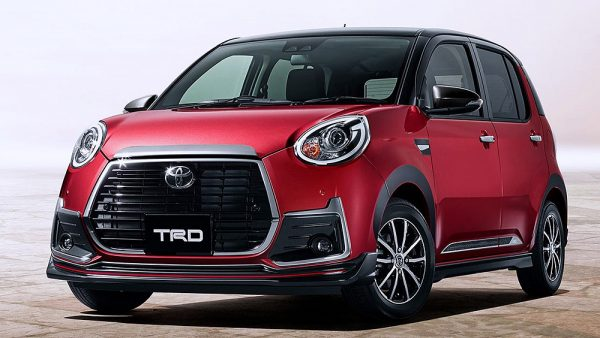sedan: (45, 24, 571, 321)
